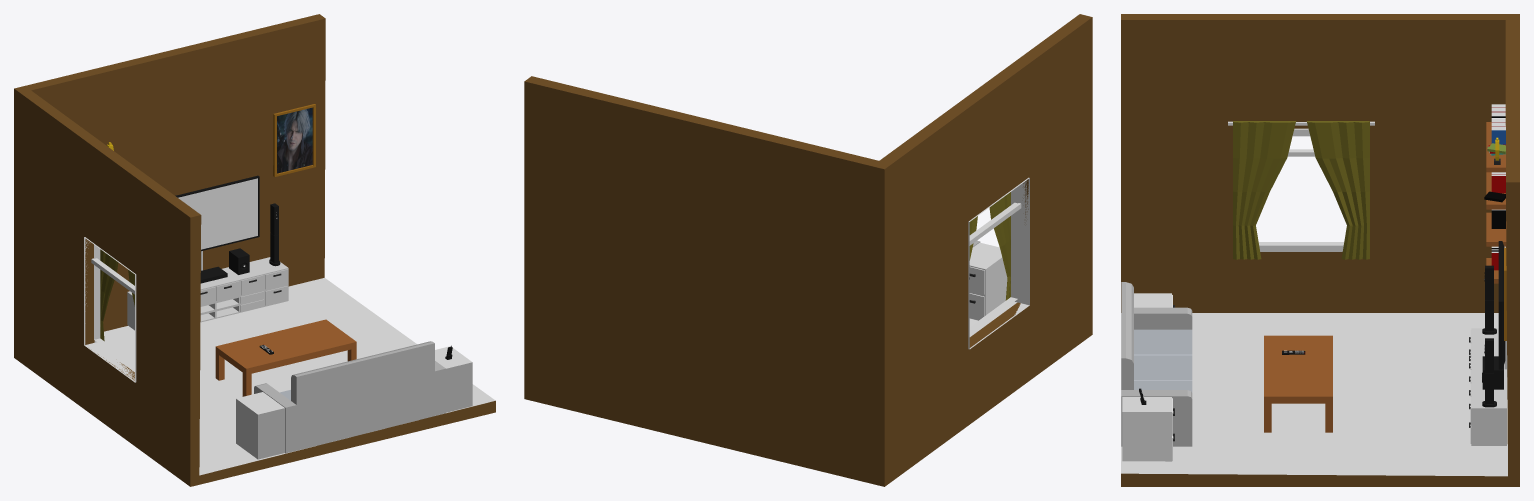
File: LivingRoom.fbx
3 views of the same model, side by side, from view 1: azimuth 30°, elevation 25°; view 2: azimuth 150°, elevation 25°; view 3: azimuth 270°, elevation 25° (orthographic). The views are drawn at different scales.
Parts seen in each view (by area): view 1: LivingRoomBase, Sofa, Table, Drawer, Monitor, TVDesk, PhotoFrame, Cube.005, Cube.006, Cube.002; view 2: LivingRoomBase, Cube.005, Drawer, Cube.006; view 3: LivingRoomBase, Cube.006, Sofa, Table, Drawer, TVDesk, Books, Cube.004, Cube.002, Cube.005, Monitor.
Part boxes in pixels (bbox=[...]): LivingRoomBase: bbox=[14, 14, 495, 486]; Sofa: bbox=[254, 341, 445, 453]; Table: bbox=[215, 319, 356, 396]; Drawer: bbox=[236, 346, 472, 459]; Monitor: bbox=[175, 175, 259, 251]; TVDesk: bbox=[127, 257, 288, 330]; PhotoFrame: bbox=[273, 104, 315, 176]; Cube.005: bbox=[84, 237, 136, 382]; Cube.006: bbox=[100, 249, 134, 341]; Cube.002: bbox=[269, 203, 280, 266]; LivingRoomBase: bbox=[524, 14, 1092, 486]; Cube.005: bbox=[968, 177, 1029, 349]; Drawer: bbox=[969, 242, 1007, 320]; Cube.006: bbox=[969, 192, 1010, 300]; LivingRoomBase: bbox=[1121, 14, 1519, 486]; Cube.006: bbox=[1233, 121, 1369, 259]; Sofa: bbox=[1121, 282, 1192, 446]; Table: bbox=[1264, 335, 1332, 432]; Drawer: bbox=[1122, 293, 1174, 461]; TVDesk: bbox=[1470, 328, 1506, 445]; Books: bbox=[1484, 104, 1505, 270]; Cube.004: bbox=[1486, 122, 1506, 283]; Cube.002: bbox=[1482, 265, 1496, 407]; Cube.005: bbox=[1228, 121, 1374, 251]; Monitor: bbox=[1498, 241, 1505, 369].
Size of what is drawn, in the model's own units: 1606 by 1348 by 1600.
